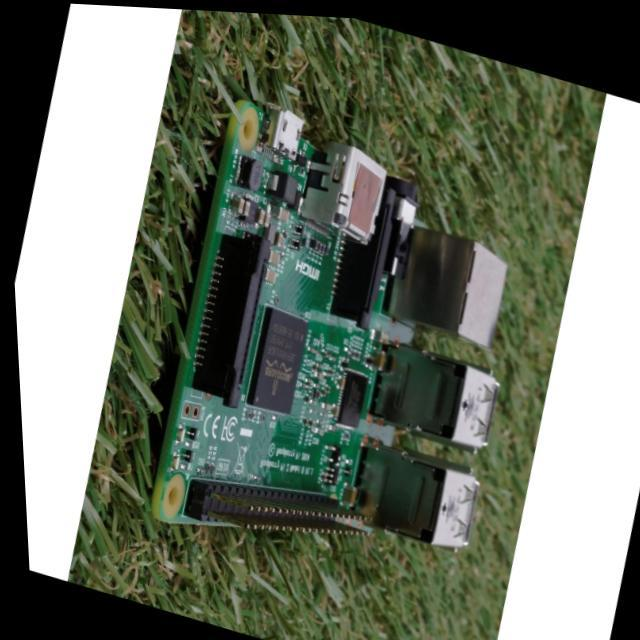Raspberry-Pi-2-B: (154, 104, 507, 546)
